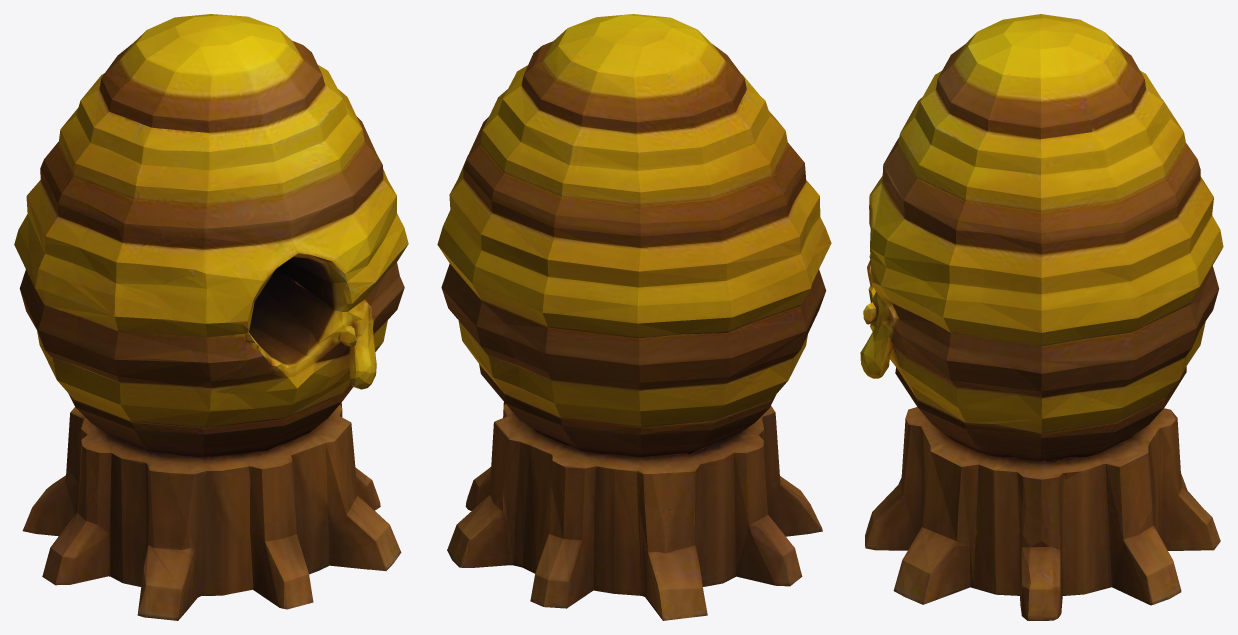
File: d_ruche_essaim.glb
3 renders of one model, left to right at view 1: azimuth 30°, elevation 25°; view 2: azimuth 150°, elevation 25°; view 3: azimuth 270°, elevation 25°, orthographic.
Parts seen in each view (by area): view 1: geometry_0; view 2: geometry_0; view 3: geometry_0.
Boxes of the visible parts, x1,y1,x2,y2 form: geometry_0: [14, 14, 408, 620]; geometry_0: [437, 14, 831, 620]; geometry_0: [860, 14, 1223, 620].
Size of the model in its own units: 0.7198 by 1 by 0.6429.
Materials: 1 (1 with a texture image).
